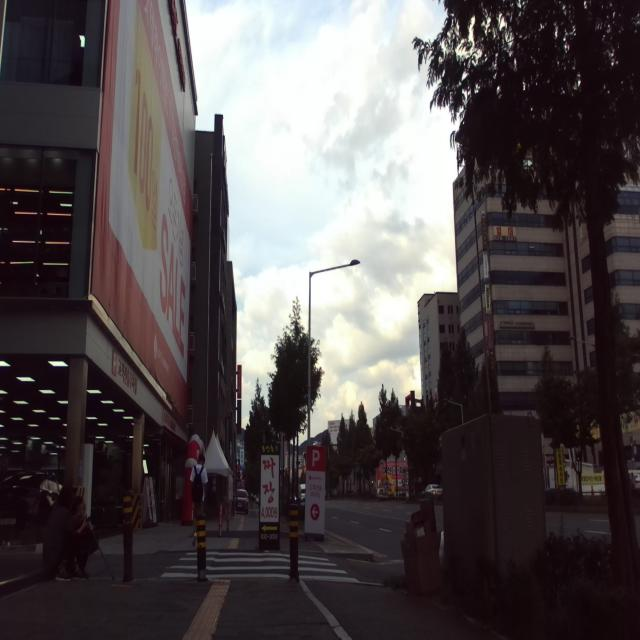횡단보도: (160, 552, 360, 584)
